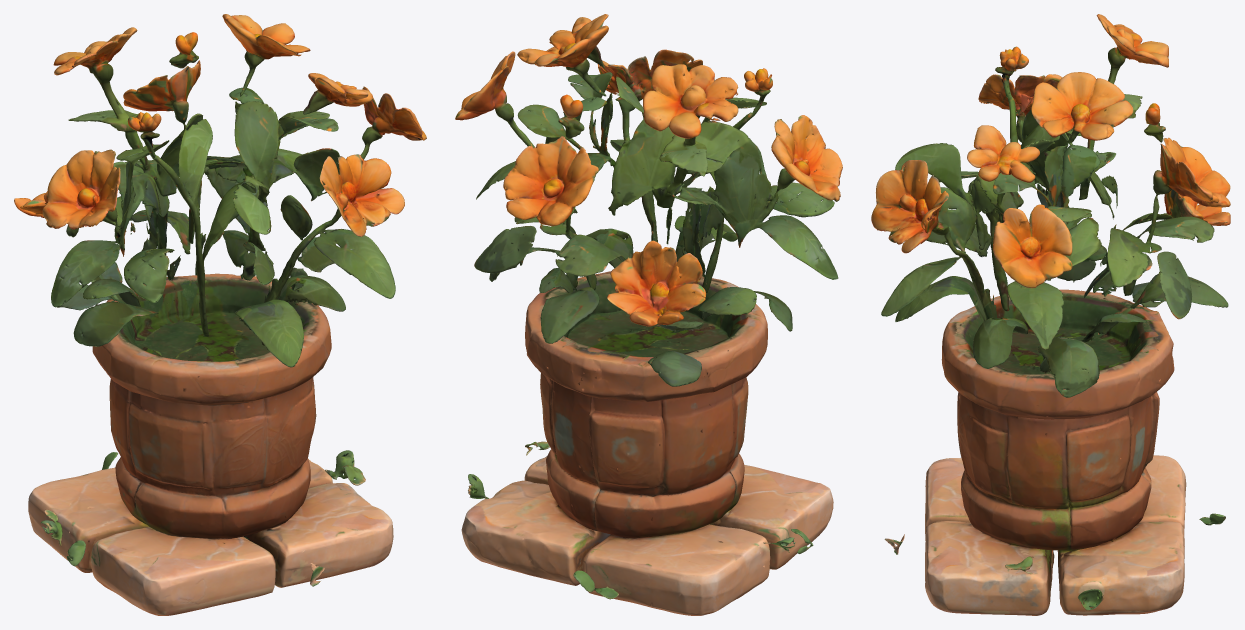
Rendered from BlossomsInPot.glb.
The picture shows the model from 3 angles, left to right: view 1: azimuth 30°, elevation 25°; view 2: azimuth 150°, elevation 25°; view 3: azimuth 270°, elevation 25°; orthographic projection. The views are drawn at different scales.
Size of the model in its own units: 1.51 by 1.97 by 1.28.
Materials: 1 (1 with a texture image).
